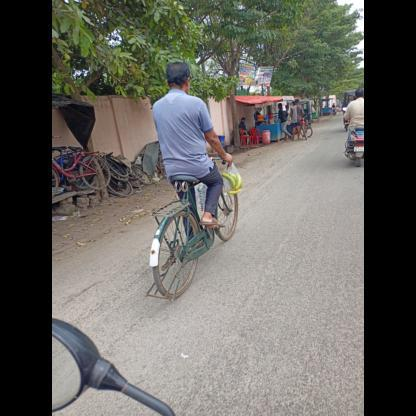Bicycle: (126, 145, 252, 309)
